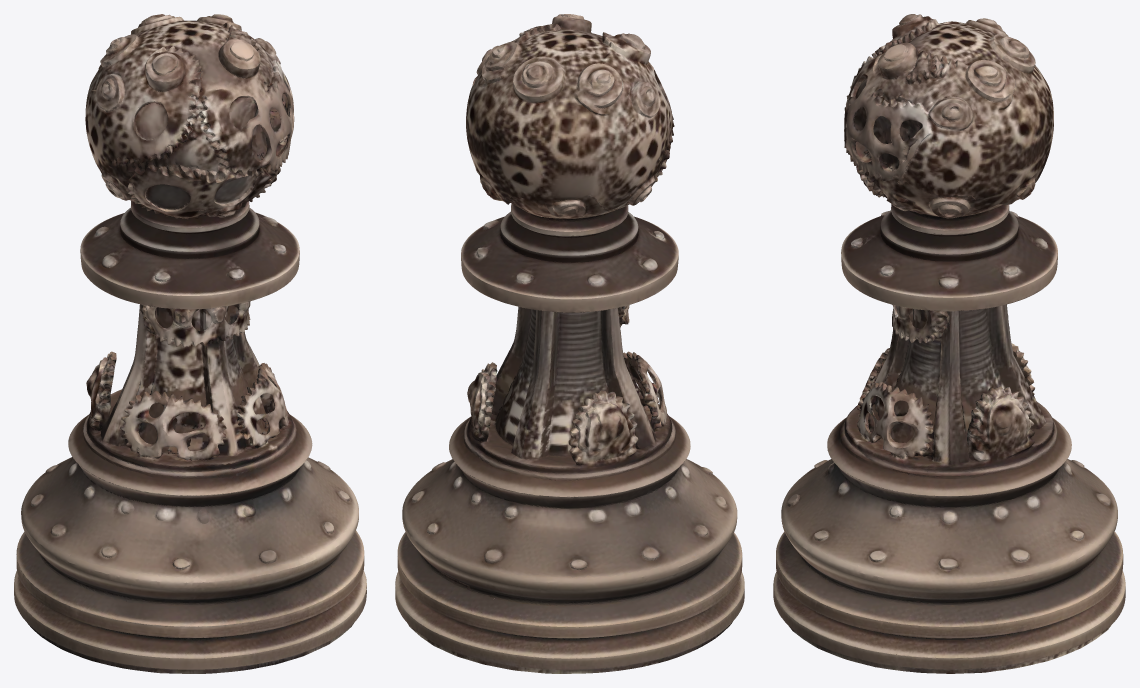
The model's file is pawn2.glb.
3 views of the same model, side by side, from view 1: azimuth 30°, elevation 25°; view 2: azimuth 150°, elevation 25°; view 3: azimuth 270°, elevation 25° (orthographic).
Parts seen in each view (by area): view 1: model; view 2: model; view 3: model.
Boxes of the visible parts, bbox=[...] form: model: bbox=[14, 14, 366, 673]; model: bbox=[395, 14, 744, 673]; model: bbox=[773, 14, 1125, 673].
Bounding box in the file's own units: 1.06 × 1.9 × 1.07.
1 material, 1 textured.
